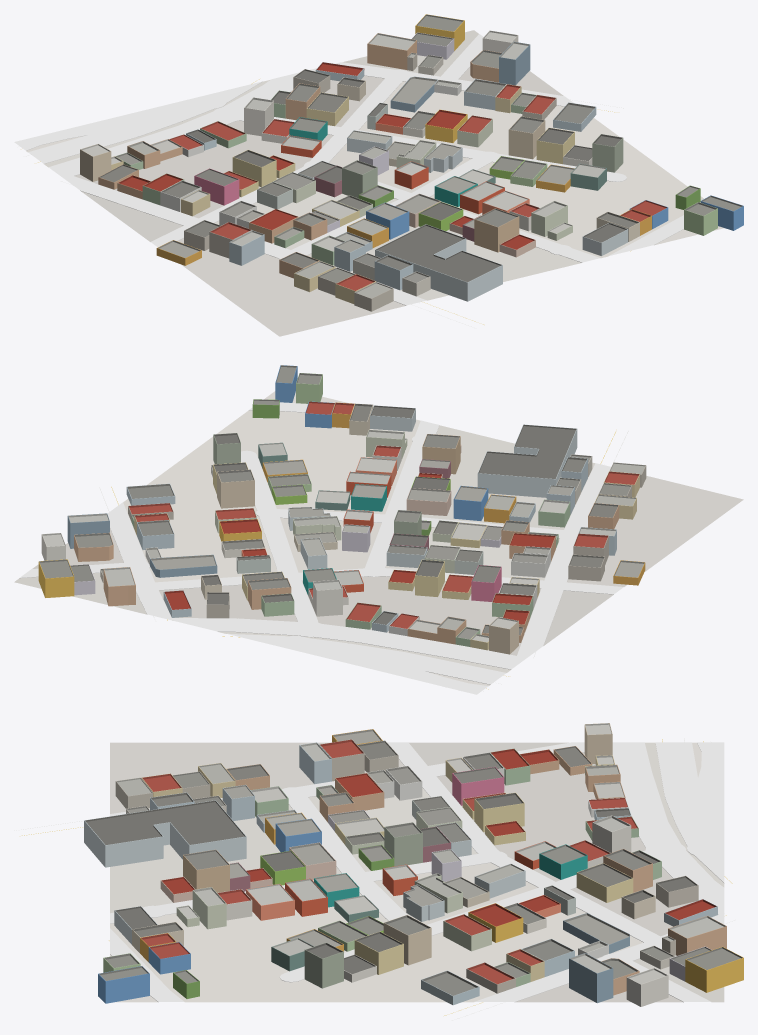
3 renders of one model, top to bottom at view 1: azimuth 30°, elevation 25°; view 2: azimuth 150°, elevation 25°; view 3: azimuth 270°, elevation 25°, orthographic. The views are drawn at different scales.
Parts seen in each view (by area): view 1: walls, roofs, ground, sidewalk; view 2: roofs, ground, walls, sidewalk; view 3: walls, roofs, ground, sidewalk.
Part boxes in pixels (x1,y1,x2,y2): walls: (80, 20, 743, 311); roofs: (80, 14, 743, 298); ground: (26, 30, 724, 336); sidewalk: (14, 34, 683, 305); roofs: (38, 365, 645, 642); ground: (14, 391, 743, 685); walls: (38, 366, 646, 654); sidewalk: (19, 402, 623, 694); walls: (84, 725, 743, 1006); roofs: (84, 723, 743, 996); ground: (110, 742, 724, 1002); sidewalk: (110, 742, 724, 1002).
Size of what is drawn, in the model's own units: 273 by 13.39 by 297.
